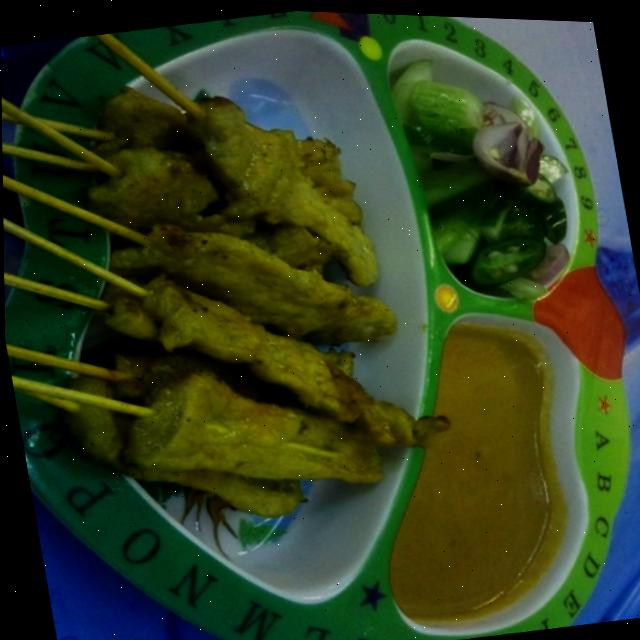牛肉菜式: (0, 0, 461, 578)
